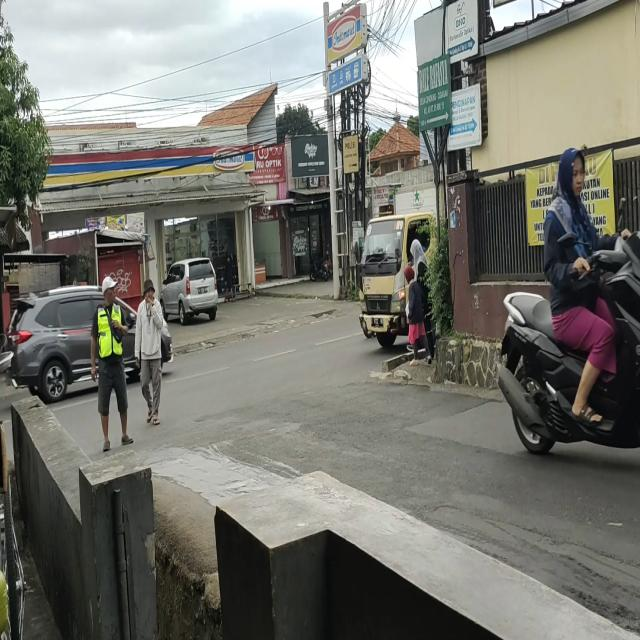no-helmet: (558, 150, 585, 203)
